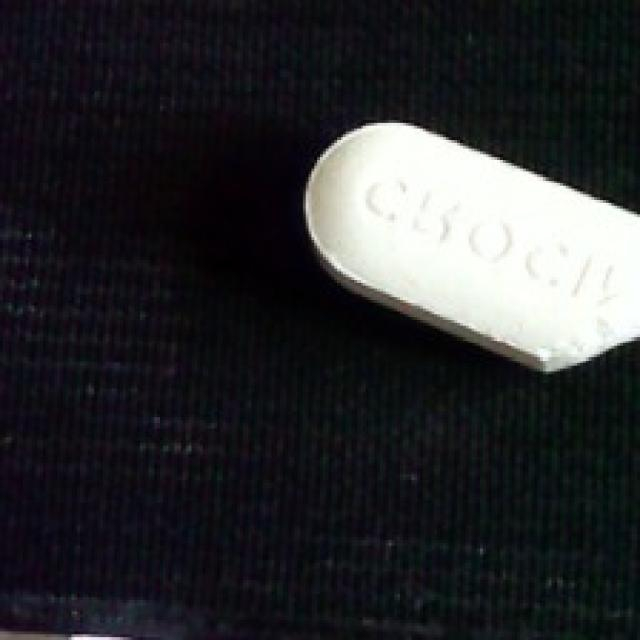defected: (297, 111, 640, 374)
